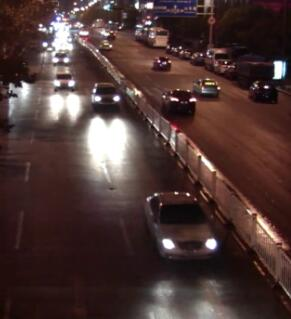bus: (146, 21, 170, 49)
car: (141, 187, 219, 263), (158, 86, 200, 117), (88, 80, 122, 114), (246, 77, 285, 105), (194, 73, 223, 100), (49, 70, 78, 92), (151, 52, 173, 73), (205, 46, 225, 68), (49, 48, 71, 67), (217, 56, 237, 76), (96, 37, 115, 54)
